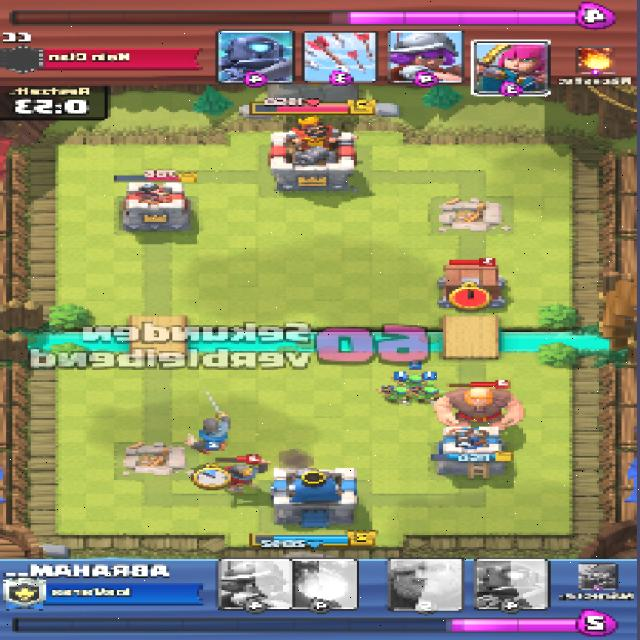Enemy-Giant: (434, 385, 524, 428)
Enemy-Knight: (213, 460, 266, 490)
Player-GoblinCage: (435, 261, 511, 308)
Player-Knight: (183, 417, 234, 452)
Player-SpearGoblin: (380, 387, 409, 403), (404, 372, 426, 391), (416, 387, 437, 402)
